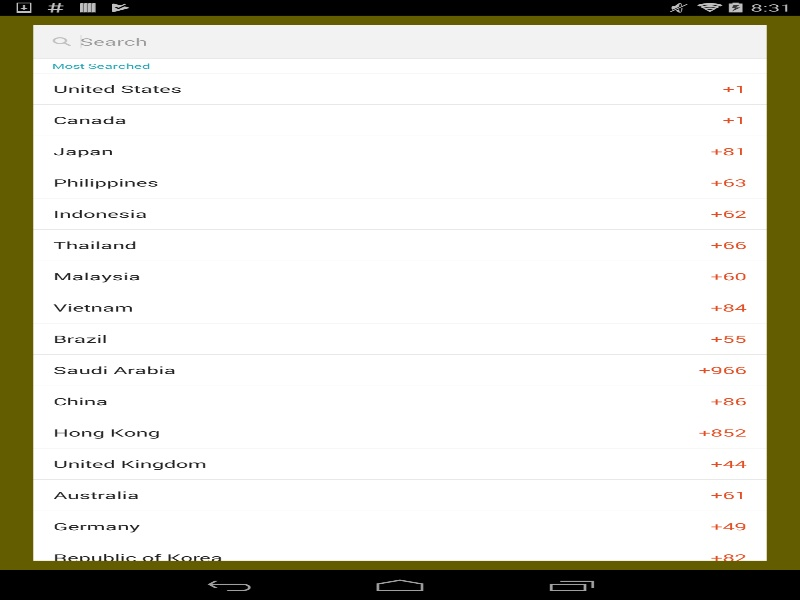Input: (40, 35, 726, 48)
